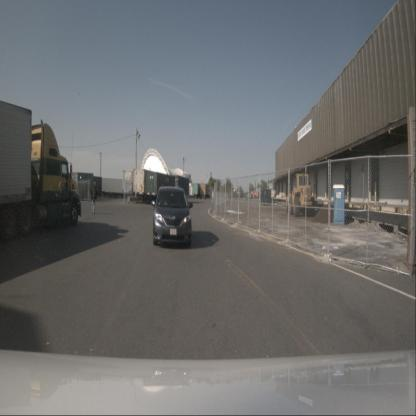vehicle-car: (153, 186, 192, 247)
vehicle-truck: (6, 119, 81, 229)
